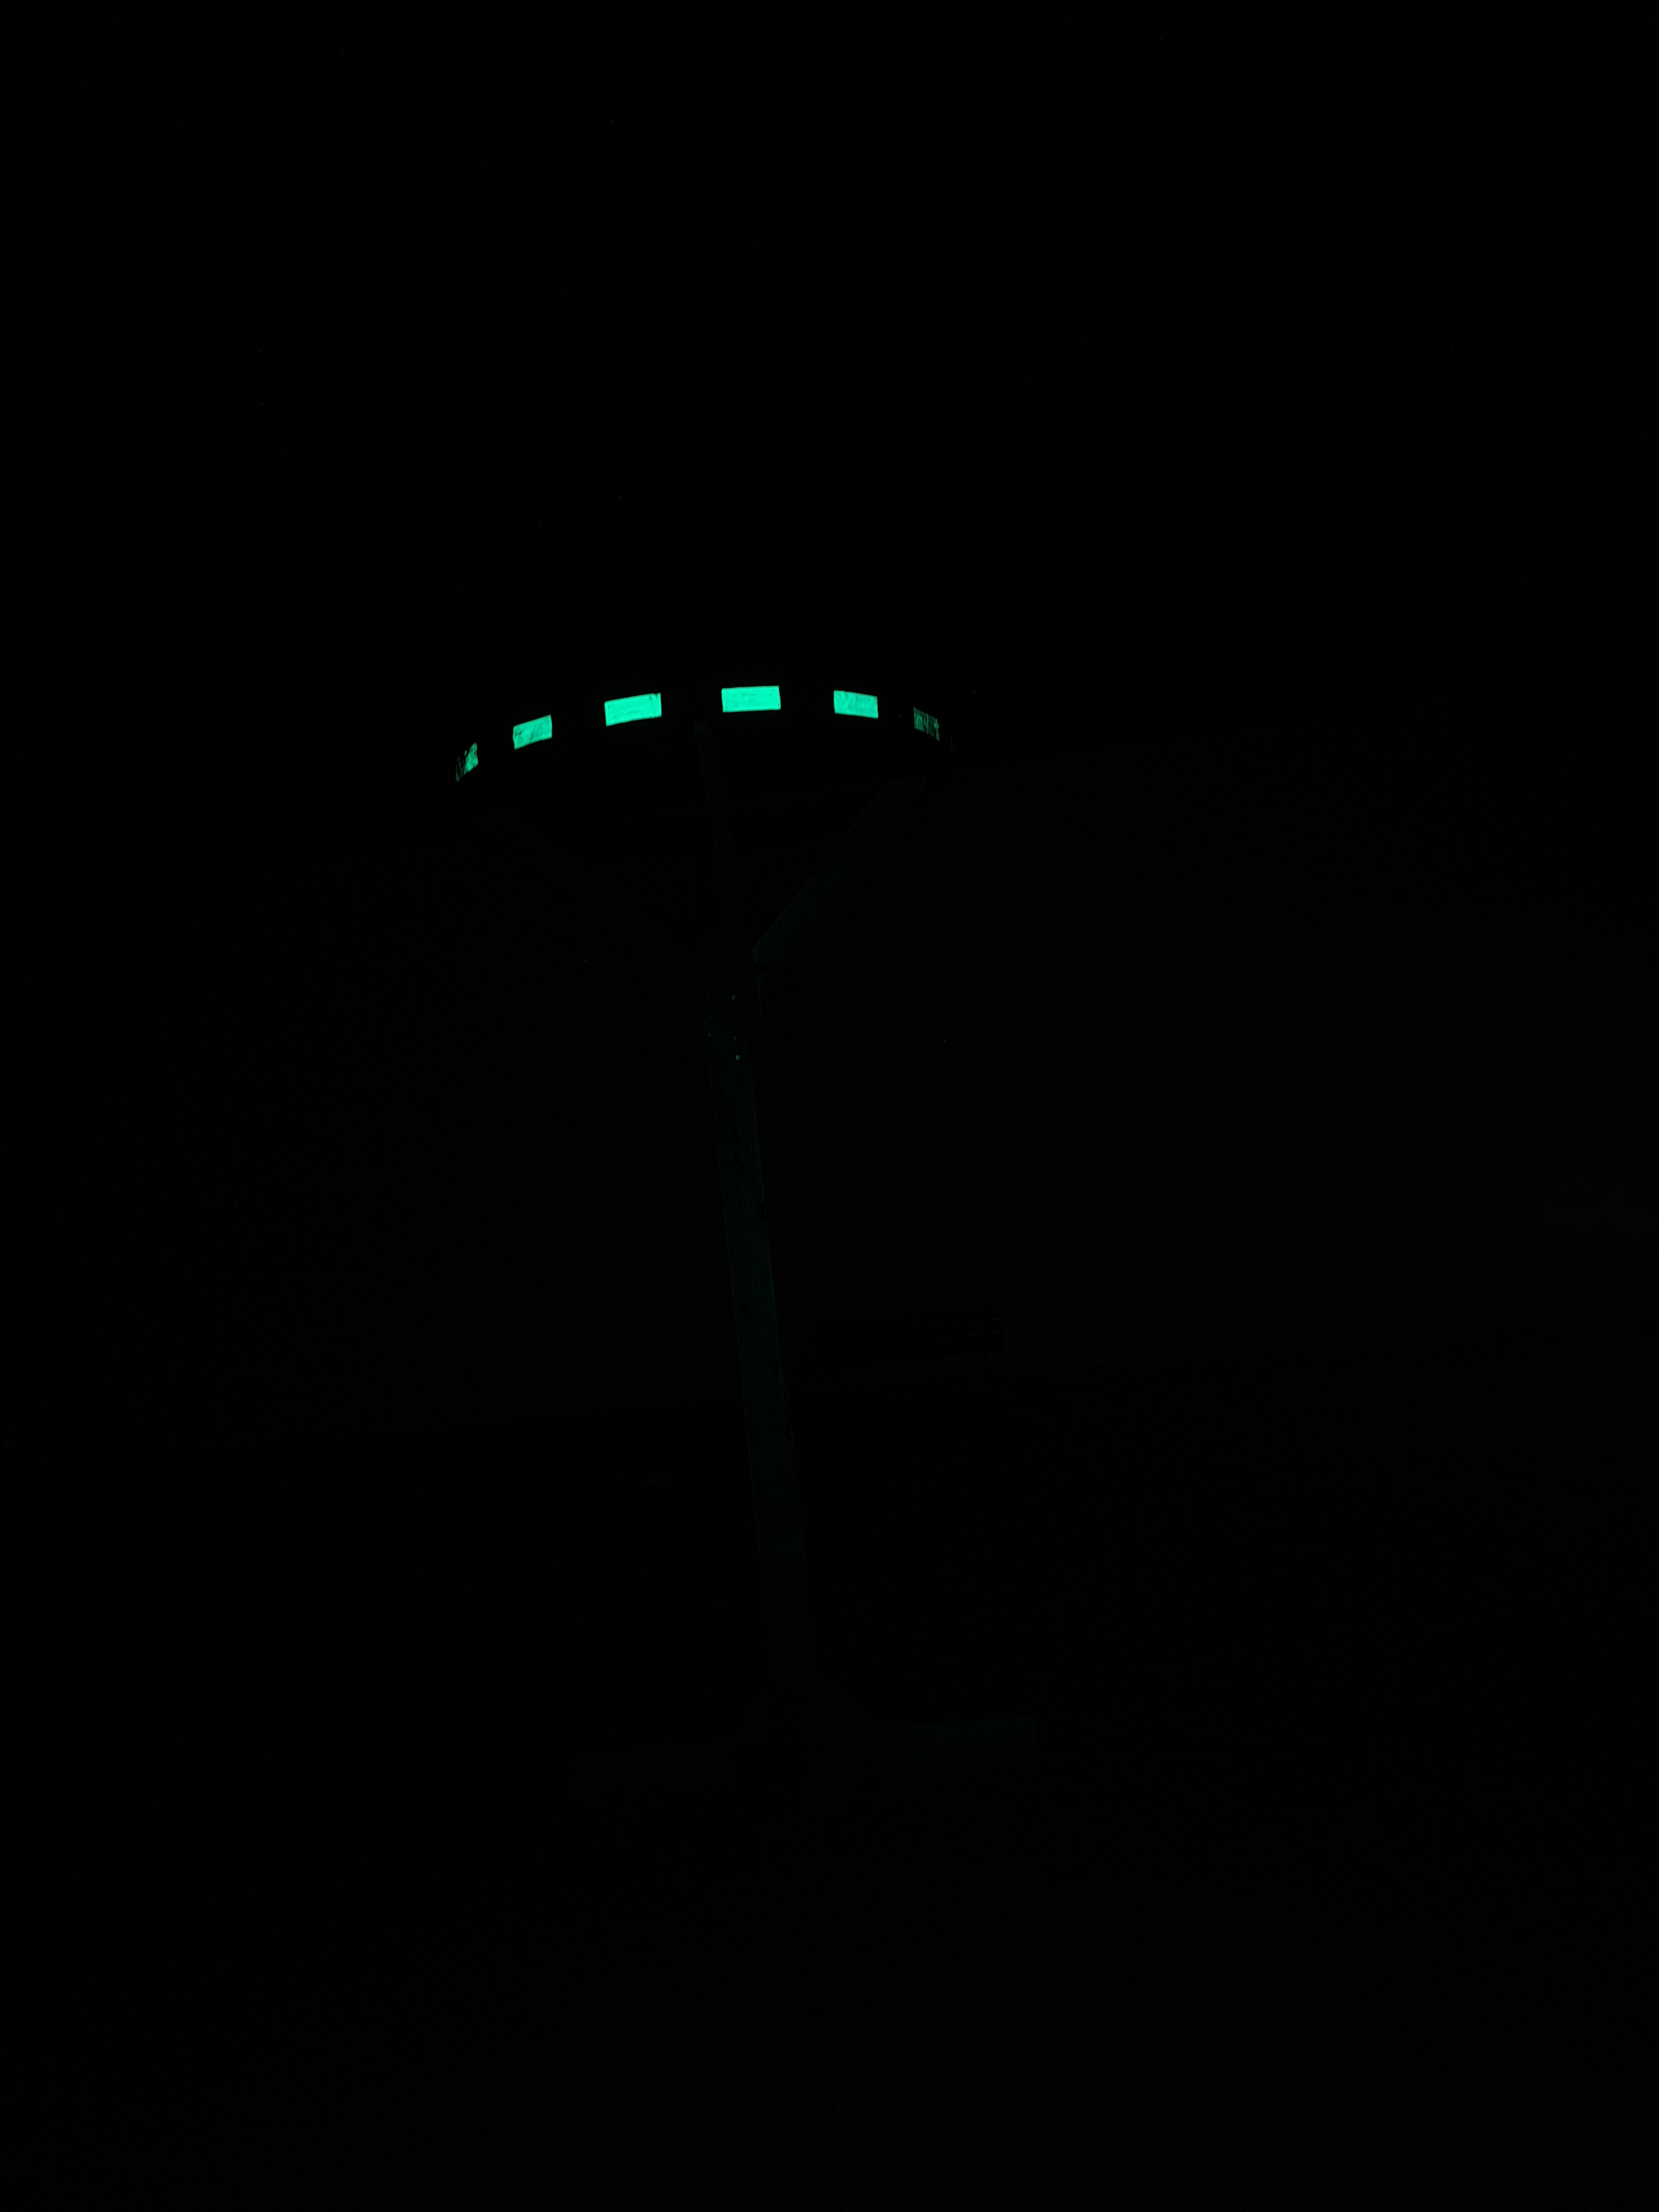hoop: (444, 676, 945, 792)
